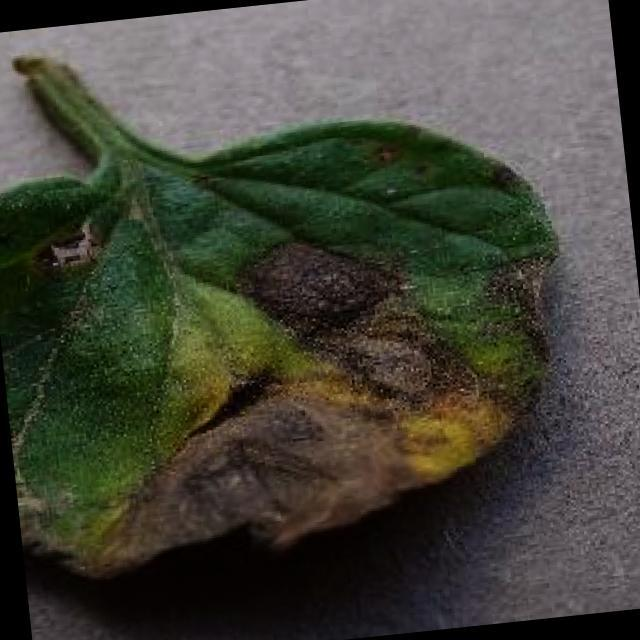Tomato Early blight leaf: (0, 100, 590, 587)
